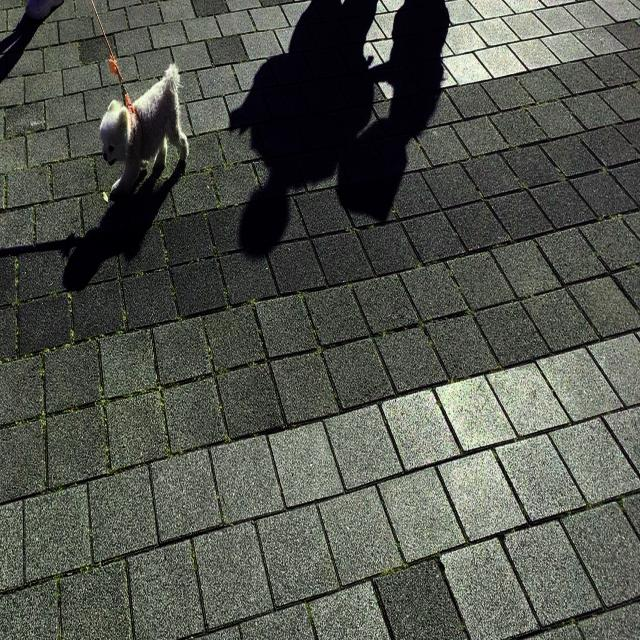Dog: (99, 63, 189, 197)
